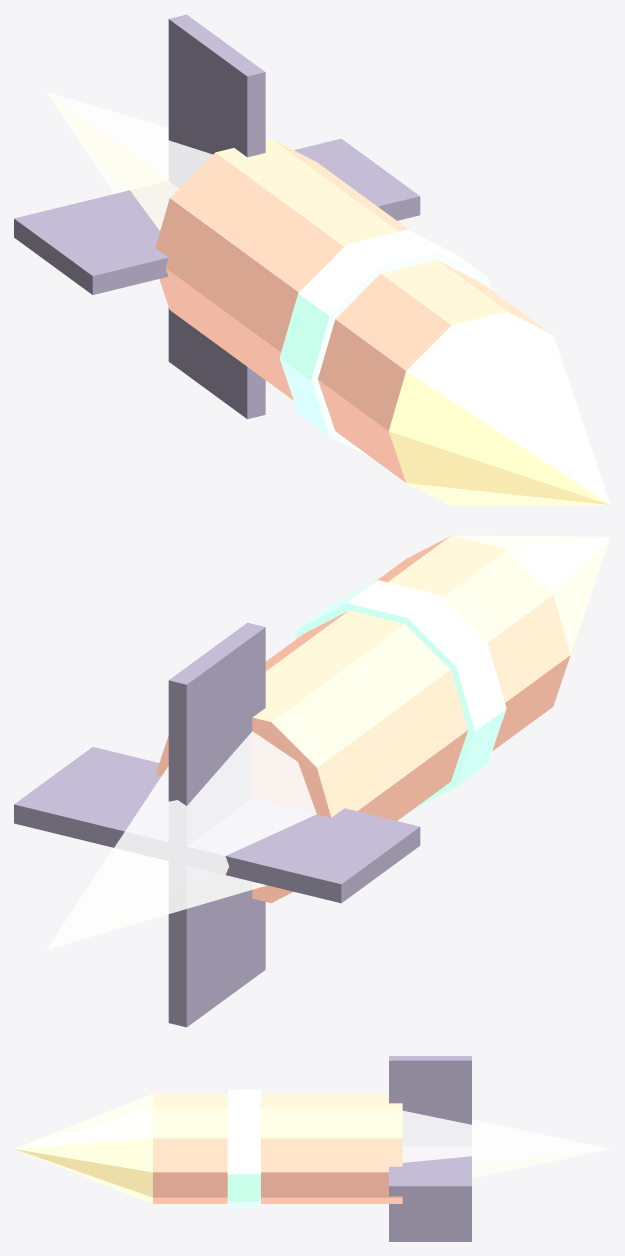
Rendered from homingshot.glb.
3 views of the same model, one above another, from view 1: azimuth 30°, elevation 25°; view 2: azimuth 150°, elevation 25°; view 3: azimuth 270°, elevation 25° (orthographic). The views are drawn at different scales.
Visible parts, largest first — view 1: MissileBody, MissileNose, FinVertical, FinHorizontal, MissileBand, Exhaust; view 2: MissileBody, FinVertical, FinHorizontal, Exhaust, MissileBand, MissileNose; view 3: MissileBody, FinVertical, MissileNose, Exhaust, MissileBand, FinHorizontal.
Boxes of the visible parts, x1,y1,x2,y2 form: MissileBody: (155, 138, 551, 482); MissileNose: (388, 311, 610, 506); FinVertical: (168, 14, 265, 419); FinHorizontal: (14, 138, 420, 294); MissileBand: (279, 229, 491, 458); Exhaust: (46, 92, 212, 230); MissileBody: (155, 535, 570, 903); FinVertical: (168, 622, 265, 1027); FinHorizontal: (14, 747, 420, 903); Exhaust: (46, 731, 316, 949); MissileBand: (294, 580, 506, 809); MissileNose: (453, 535, 610, 670); MissileBody: (153, 1094, 402, 1203); FinVertical: (389, 1056, 471, 1241); MissileNose: (14, 1094, 152, 1203); Exhaust: (402, 1110, 609, 1178); MissileBand: (227, 1089, 260, 1208); FinHorizontal: (389, 1147, 471, 1196).
Bounding box in the file's own units: 0.72 × 0.72 × 2.15.
